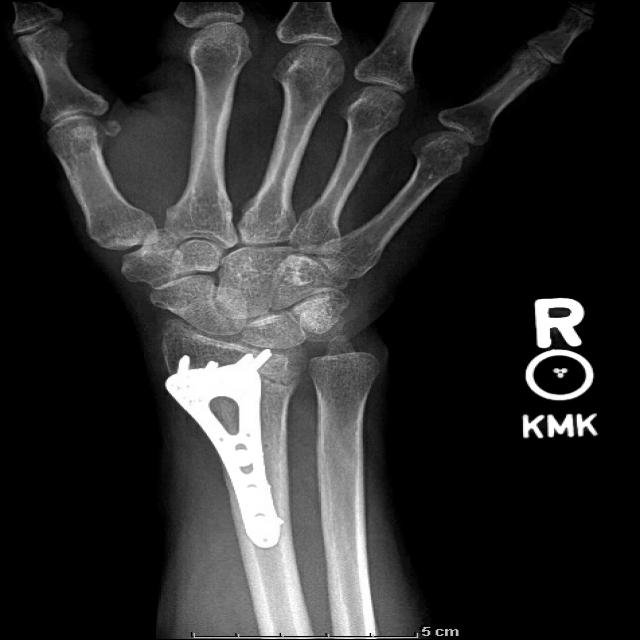x-ray: (162, 342, 314, 556)
